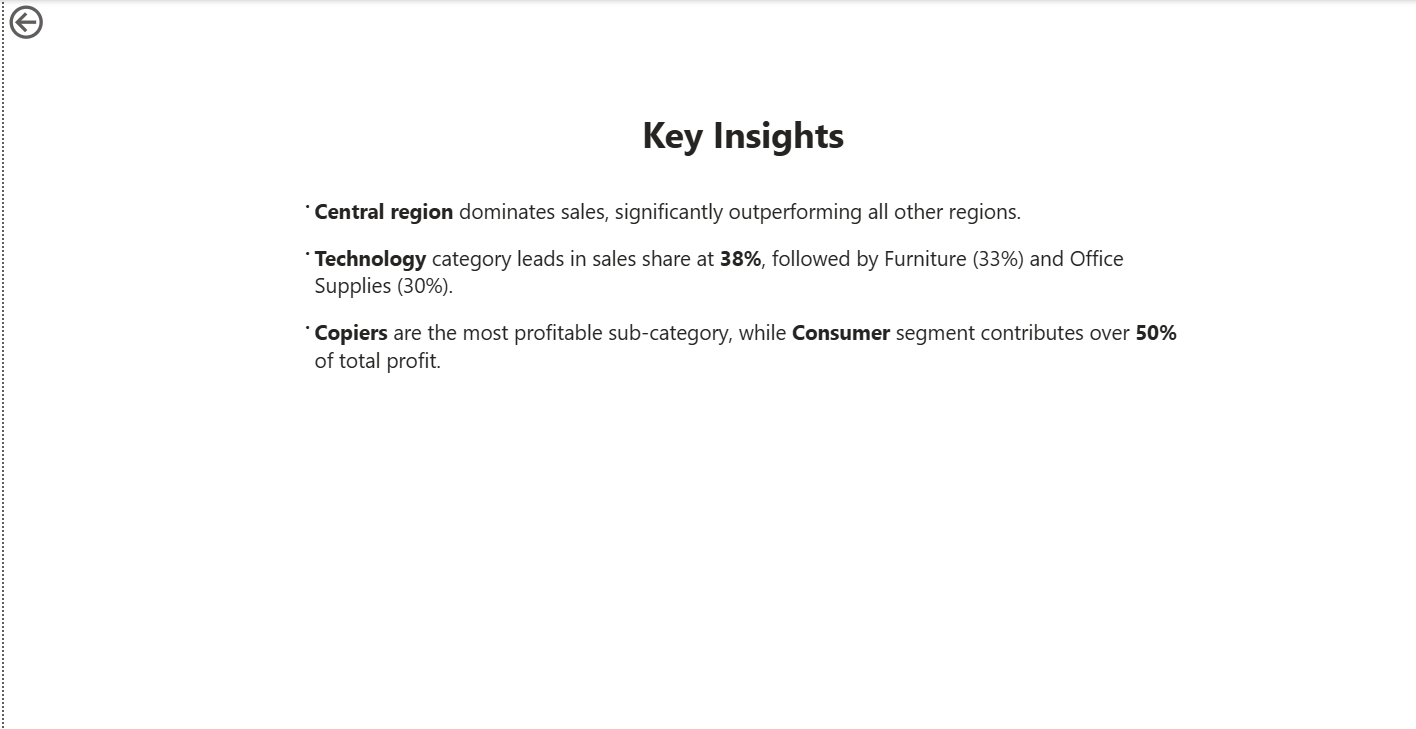

This screenshot's page, from the dashboard's own definition file:
{"tool":"powerbi","page":{"name":"Insights","canvas":[1280,720],"ordinal":1},"visuals":[{"type":"textbox","box":[257.5,94.5,818.5,421.7],"z":0},{"type":"actionButton","box":[0,0,100,40],"z":1}]}

Visuals, with their boxes on the page's 1280x720 design canvas (x1, y1, x2, y2). These are canvas units, not pixel positions in the 1416x729 screenshot, which may show the page scaled, cropped or inside an application window:
textbox: box(258, 94, 1076, 516)
actionButton: box(0, 0, 100, 40)
